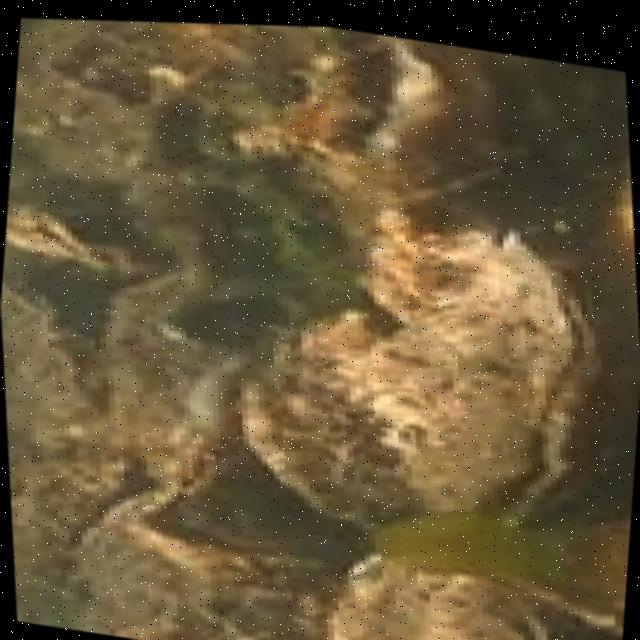Oyster-Closed: (341, 228, 625, 523), (138, 488, 365, 589), (0, 276, 106, 444), (5, 184, 163, 273)
Oyster-Indeterminate: (235, 305, 439, 532), (100, 270, 283, 485), (82, 491, 301, 621), (376, 37, 514, 196), (330, 551, 563, 640), (172, 347, 259, 493), (530, 515, 631, 630), (172, 299, 293, 347)
